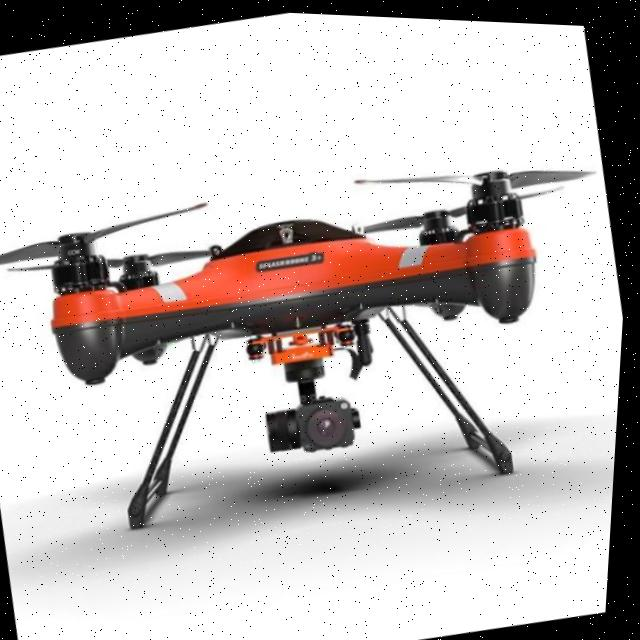drones: (0, 91, 636, 586)
